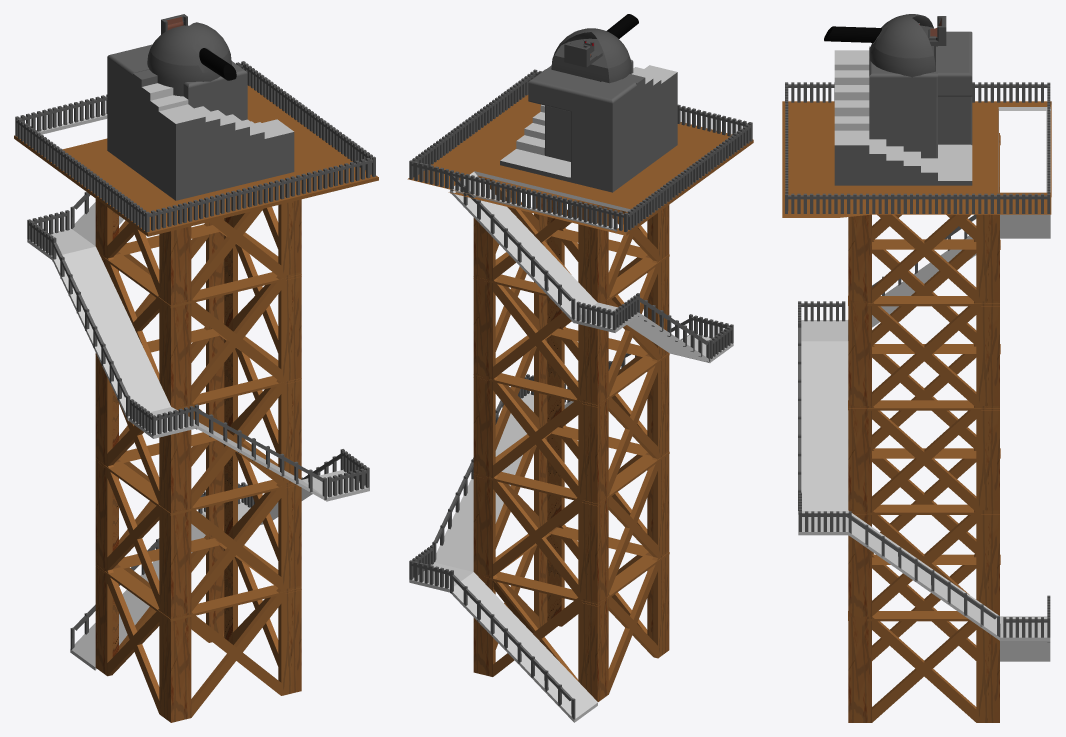
Rendered from Guard_Tower.fbx.
3 renders of one model, left to right at view 1: azimuth 30°, elevation 25°; view 2: azimuth 150°, elevation 25°; view 3: azimuth 270°, elevation 25°, orthographic. The views are drawn at different scales.
Visible parts, largest first — view 1: Cube, Cube.004, Cube.017, Cube.005, Cube.002, Cube.008, Cube.003, Cube.006, Cube.007, Cube.012, Cube.010; view 2: Cube, Cube.017, Cube.004, Cube.002, Cube.006, Cube.003, Cube.007, Cube.005, Cube.008, Cube.012; view 3: Cube, Cube.002, Cube.004, Cube.003, Cube.007, Cube.008, Cube.017, Cube.012, Cube.010.
Part boxes in pixels (bbox=[...]): Cube: bbox=[104, 204, 285, 717]; Cube.004: bbox=[107, 14, 294, 200]; Cube.017: bbox=[15, 61, 375, 649]; Cube.005: bbox=[159, 226, 191, 722]; Cube.002: bbox=[27, 113, 369, 670]; Cube.008: bbox=[281, 199, 301, 695]; Cube.003: bbox=[14, 85, 378, 236]; Cube.006: bbox=[95, 199, 120, 675]; Cube.007: bbox=[209, 216, 232, 644]; Cube.012: bbox=[142, 83, 293, 138]; Cube.010: bbox=[199, 48, 236, 80]; Cube: bbox=[488, 179, 669, 694]; Cube.017: bbox=[409, 69, 752, 719]; Cube.004: bbox=[500, 28, 677, 192]; Cube.002: bbox=[409, 171, 733, 722]; Cube.006: bbox=[578, 200, 608, 701]; Cube.003: bbox=[407, 95, 753, 235]; Cube.007: bbox=[473, 175, 493, 676]; Cube.005: bbox=[645, 205, 669, 657]; Cube.008: bbox=[539, 197, 561, 627]; Cube.012: bbox=[500, 65, 676, 177]; Cube: bbox=[867, 143, 999, 722]; Cube.002: bbox=[798, 107, 1050, 661]; Cube.004: bbox=[834, 14, 972, 185]; Cube.003: bbox=[782, 101, 1051, 217]; Cube.007: bbox=[976, 187, 999, 722]; Cube.008: bbox=[848, 214, 871, 722]; Cube.017: bbox=[785, 82, 1050, 642]; Cube.012: bbox=[834, 46, 972, 180]; Cube.010: bbox=[824, 26, 881, 42].
Size of the model in its own units: 628 by 1729 by 631.
